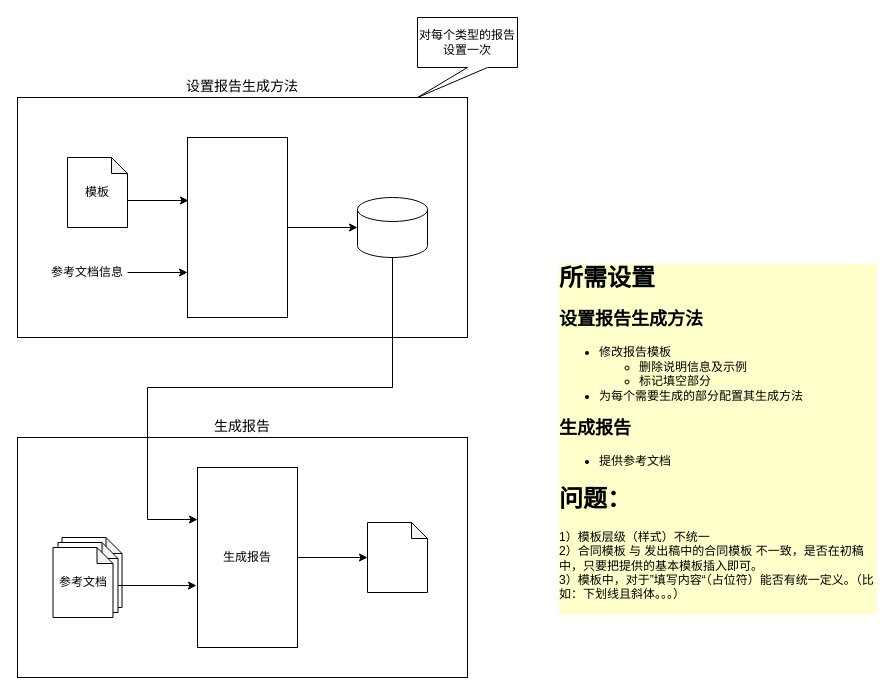
Some shapes in this 895 by 695 pixel diagram are drawn without their labels. Each missing label, with the centre of its shape:
报告: (x=397, y=557)
模板信息: (x=392, y=227)
设置报告 生成方法: (x=237, y=227)
